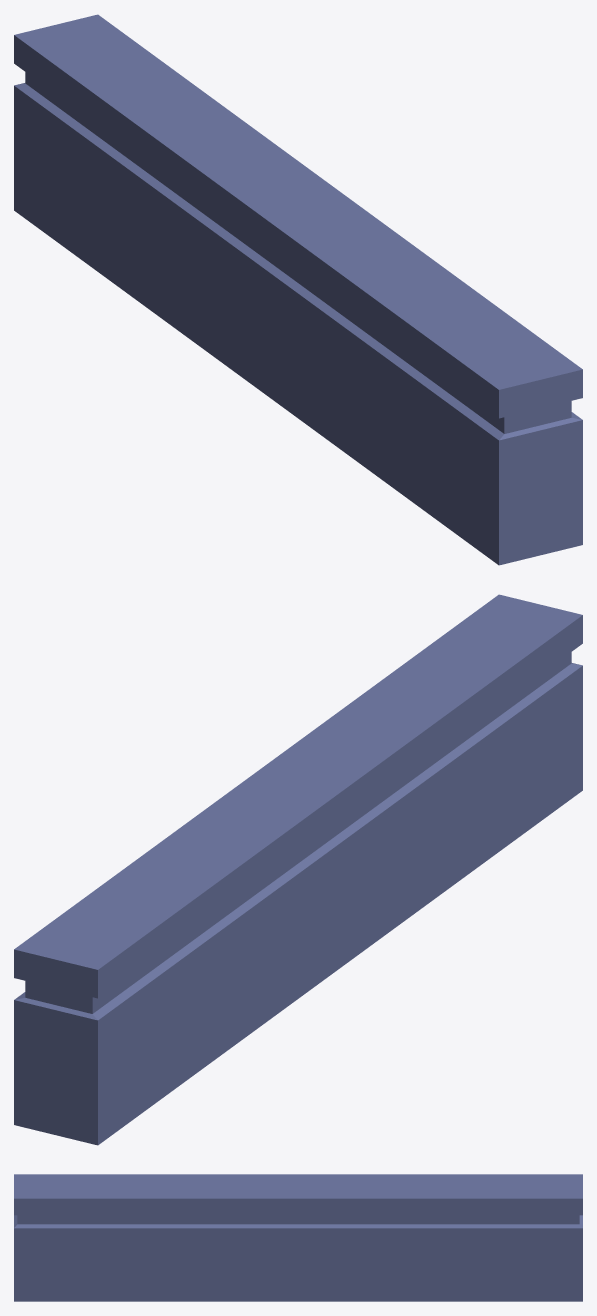
Rendered from wall_2_1.fbx.
3 views of the same model, one above another, from view 1: azimuth 30°, elevation 25°; view 2: azimuth 150°, elevation 25°; view 3: azimuth 270°, elevation 25° (orthographic). The views are drawn at different scales.
Visible parts, largest first — view 1: wall_2_1; view 2: wall_2_1; view 3: wall_2_1.
Boxes of the visible parts, x1=… form: wall_2_1: x1=14, y1=14, x2=582, y2=565; wall_2_1: x1=14, y1=594, x2=582, y2=1145; wall_2_1: x1=14, y1=1174, x2=582, y2=1301.
Size of the model in its own units: 1 by 2 by 10.
